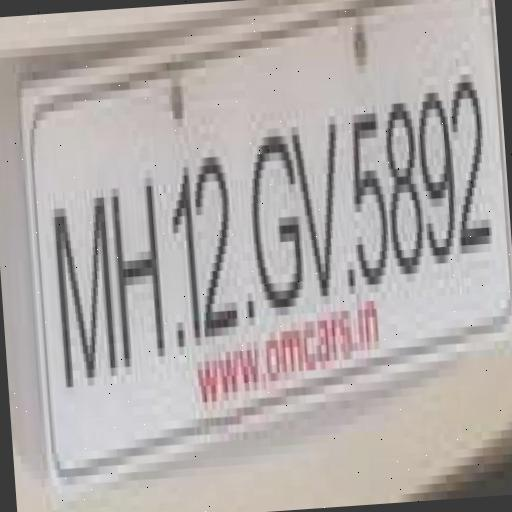number plate: (6, 0, 512, 430)
